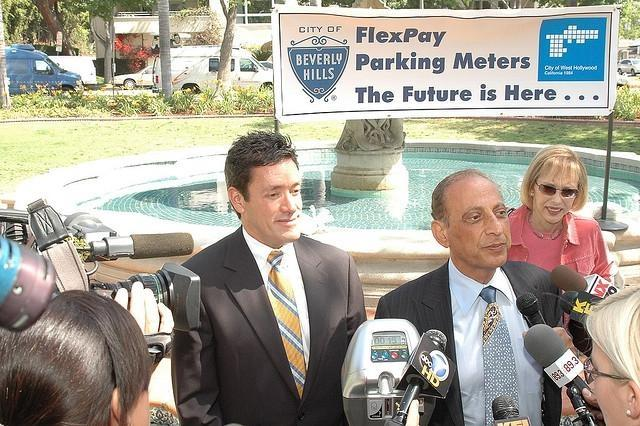car: (110, 65, 154, 91)
truck: (169, 48, 273, 94), (2, 44, 80, 97), (48, 56, 98, 90)
